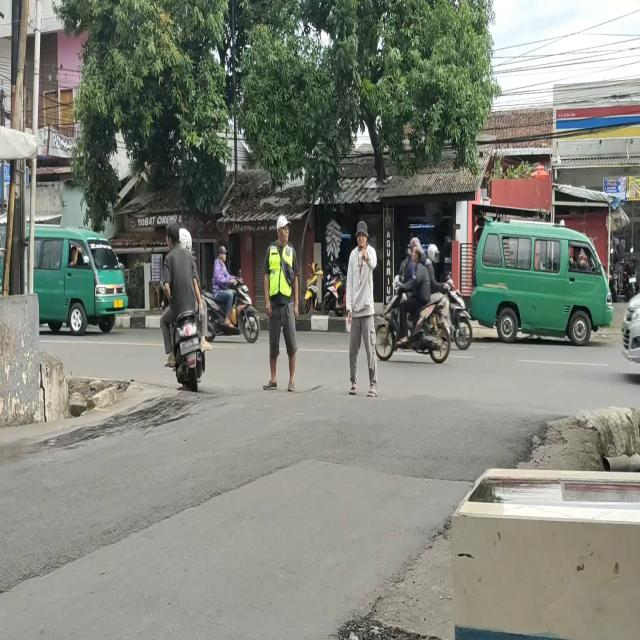helmet: (427, 244, 441, 268), (181, 227, 192, 248)
no-helmet: (164, 222, 180, 247), (215, 242, 228, 268), (412, 247, 422, 265)
